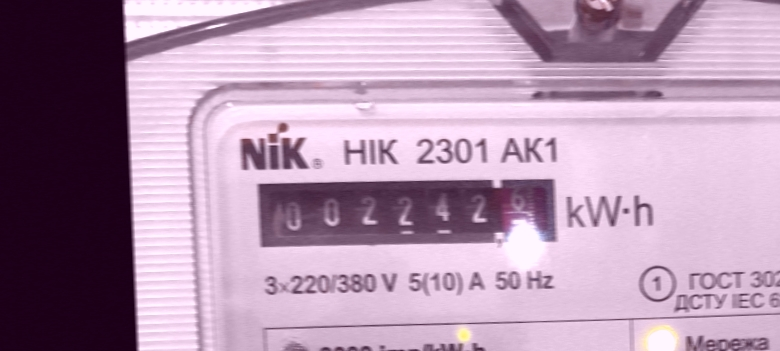0: (282, 201, 303, 235), (320, 197, 340, 231)
2: (358, 196, 378, 229), (394, 196, 413, 230), (469, 195, 487, 227)
4: (433, 192, 450, 226)
6: (508, 187, 525, 215)
screen: (245, 164, 567, 266)
